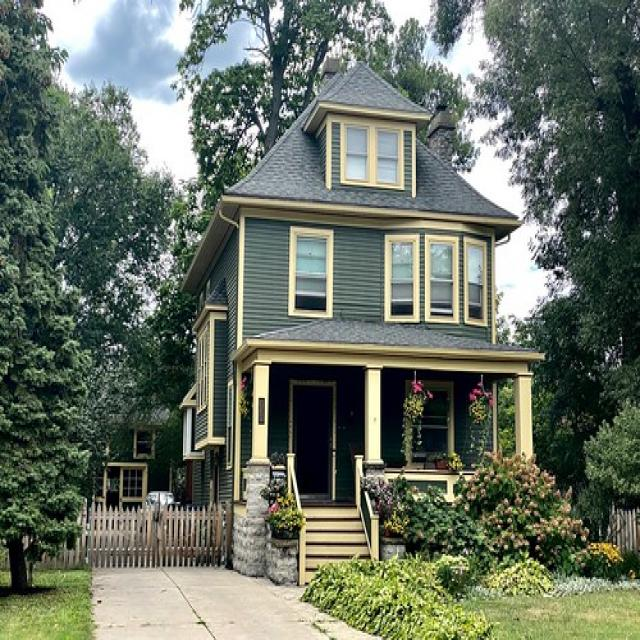Normal_building: (173, 57, 548, 586)
